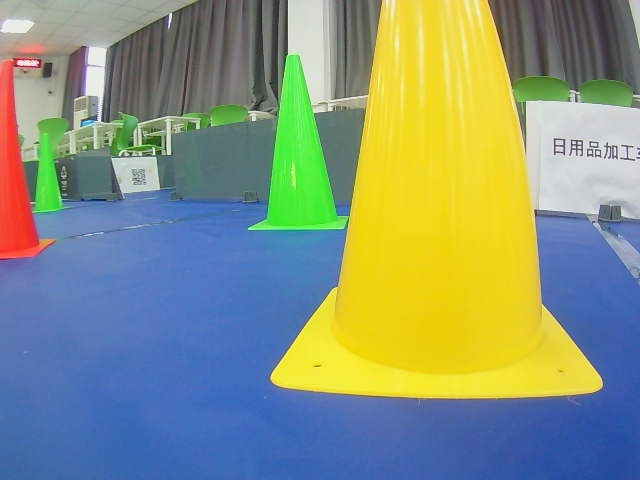target: (553, 136, 640, 162)
